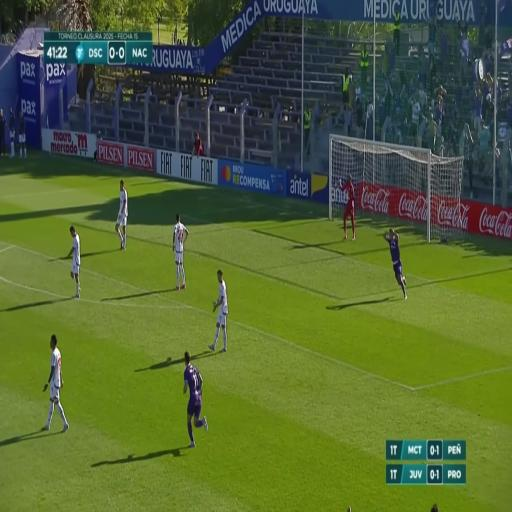Goalkeeper: (339, 171, 357, 242)
Player: (182, 349, 210, 449), (44, 332, 68, 436), (384, 227, 411, 303), (211, 267, 229, 355), (172, 212, 190, 290), (66, 223, 84, 297), (113, 177, 130, 248)
